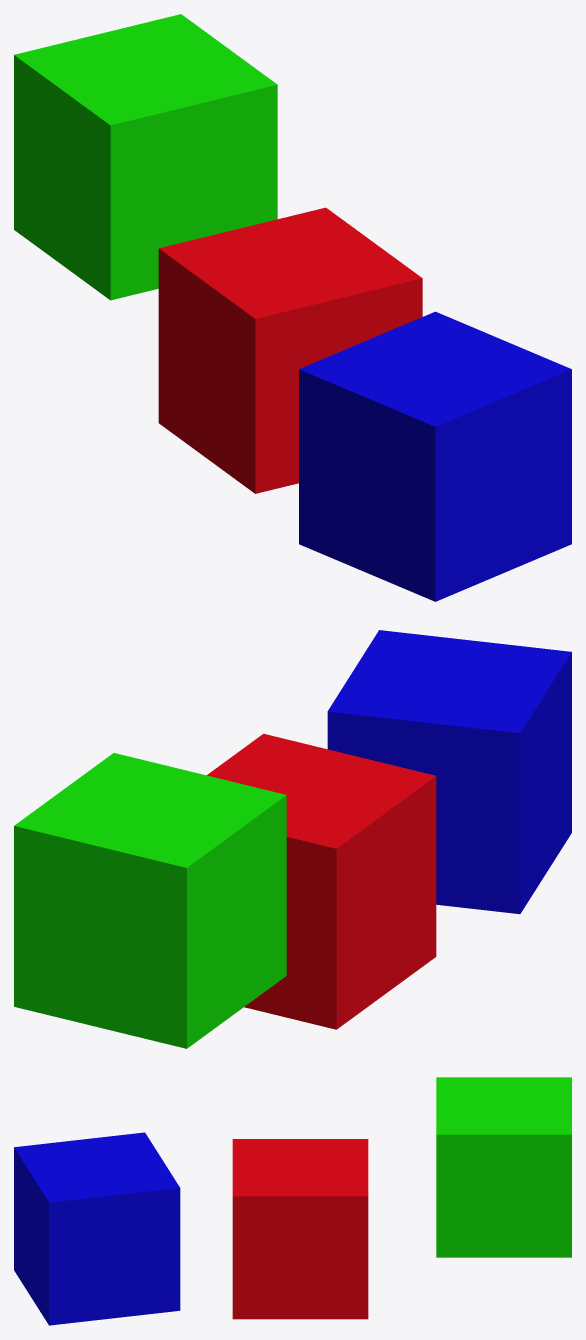
The model's file is 3Cubes.glb.
3 views of the same model, one above another, from view 1: azimuth 30°, elevation 25°; view 2: azimuth 150°, elevation 25°; view 3: azimuth 270°, elevation 25° (orthographic). The views are drawn at different scales.
Parts seen in each view (by area): view 1: Cube.002, Cube.001, Cube; view 2: Cube.001, Cube.002, Cube; view 3: Cube.002, Cube, Cube.001.
Part boxes in pixels (x1,y1,x2,y2): Cube.002: [299, 311, 571, 601]; Cube.001: [14, 14, 277, 300]; Cube: [158, 207, 422, 493]; Cube.001: [14, 753, 286, 1048]; Cube.002: [327, 630, 571, 914]; Cube: [206, 733, 436, 1029]; Cube.002: [14, 1132, 180, 1325]; Cube: [232, 1139, 368, 1319]; Cube.001: [436, 1077, 571, 1257].
Bounding box in the file's own units: 2.45 × 3 × 8.22.
